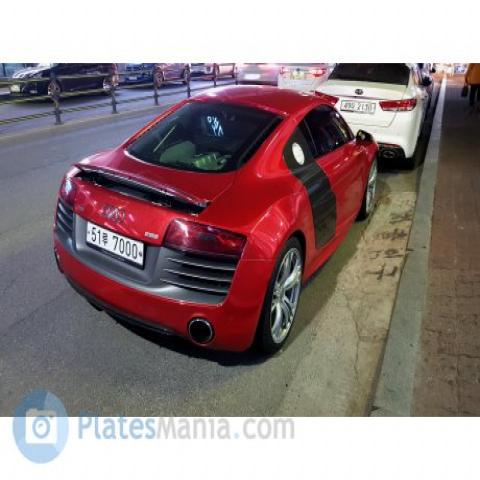LP: (78, 213, 156, 275), (337, 89, 379, 119)
